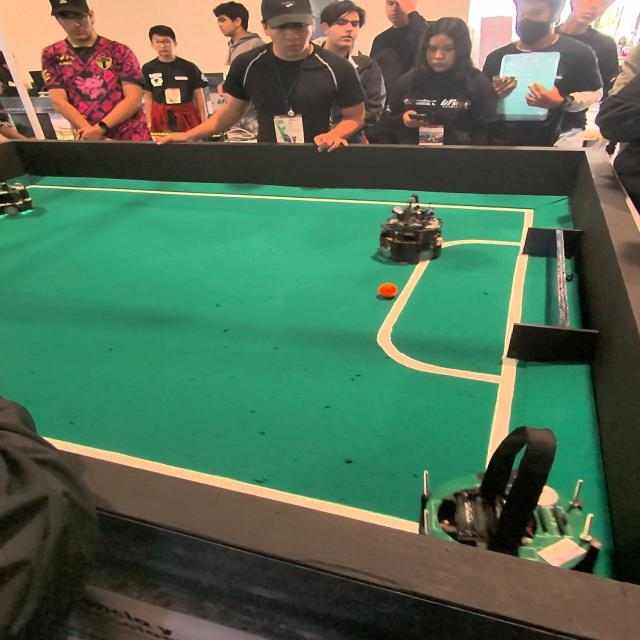Robot: (420, 423, 607, 583), (377, 196, 450, 267), (0, 178, 35, 226)
pelota: (377, 282, 397, 297)
